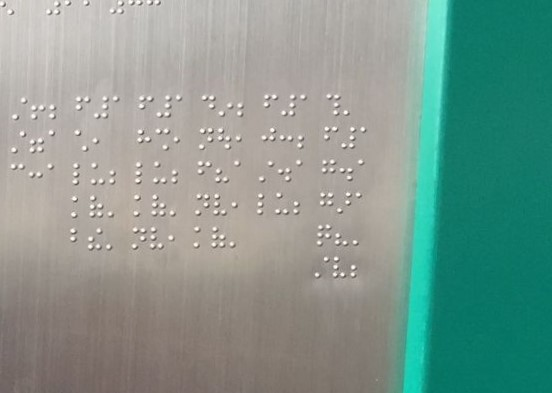Braille: (258, 125, 277, 153), (211, 192, 230, 220), (87, 193, 106, 220), (129, 226, 149, 251), (356, 157, 375, 183), (167, 194, 186, 220), (86, 226, 105, 252), (167, 226, 186, 252), (149, 225, 166, 254), (91, 93, 109, 120), (216, 125, 233, 153), (296, 127, 315, 152), (171, 128, 189, 154), (234, 127, 252, 153), (319, 157, 337, 183), (256, 191, 274, 217), (312, 254, 330, 280), (156, 94, 173, 121), (72, 127, 89, 154), (278, 126, 295, 153), (230, 192, 247, 219), (151, 161, 170, 185), (257, 160, 276, 184), (29, 97, 47, 122), (71, 161, 89, 186), (195, 160, 213, 185), (111, 94, 128, 120), (174, 94, 191, 120), (90, 161, 107, 187), (232, 159, 249, 185), (194, 193, 211, 219), (354, 191, 371, 217), (105, 226, 122, 252), (46, 130, 64, 154), (136, 129, 154, 153), (198, 126, 214, 153), (44, 161, 62, 185), (68, 226, 86, 250), (229, 227, 247, 251), (316, 223, 332, 250), (49, 97, 66, 122), (74, 94, 91, 119), (199, 95, 216, 120), (324, 93, 341, 118), (92, 127, 109, 152), (108, 162, 125, 187), (292, 191, 309, 216), (193, 226, 210, 251), (335, 224, 352, 249), (323, 125, 339, 151), (106, 194, 122, 220), (274, 192, 290, 218), (211, 226, 227, 252), (331, 254, 347, 280), (8, 162, 26, 185), (131, 194, 149, 217), (281, 94, 298, 118), (27, 162, 44, 186), (134, 161, 151, 185), (171, 161, 188, 185), (294, 159, 311, 183), (352, 224, 369, 248), (151, 192, 166, 219), (237, 94, 253, 119), (154, 127, 170, 152), (215, 161, 231, 186), (71, 194, 87, 219), (351, 254, 367, 279), (138, 94, 153, 120), (339, 157, 354, 183), (300, 94, 316, 118), (11, 130, 27, 154), (28, 131, 44, 155), (336, 192, 352, 216), (218, 94, 233, 119), (360, 126, 375, 151), (318, 193, 334, 216), (343, 93, 358, 117), (277, 159, 292, 183), (0, 1, 16, 23), (263, 94, 278, 117), (342, 127, 357, 150), (110, 0, 125, 23), (13, 97, 27, 121), (46, 0, 61, 22), (83, 0, 98, 22), (129, 0, 144, 22), (147, 0, 161, 21), (66, 1, 78, 21)
